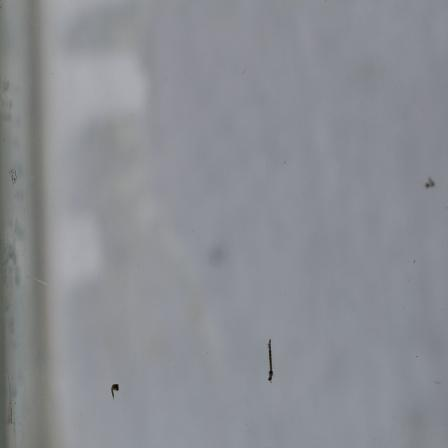Jentik-Nyamuk: (262, 335, 278, 384), (108, 380, 122, 402)
